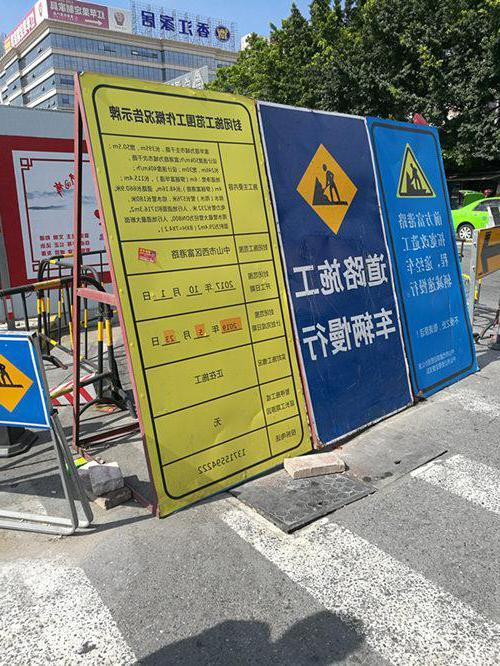sign: (78, 81, 476, 521)
